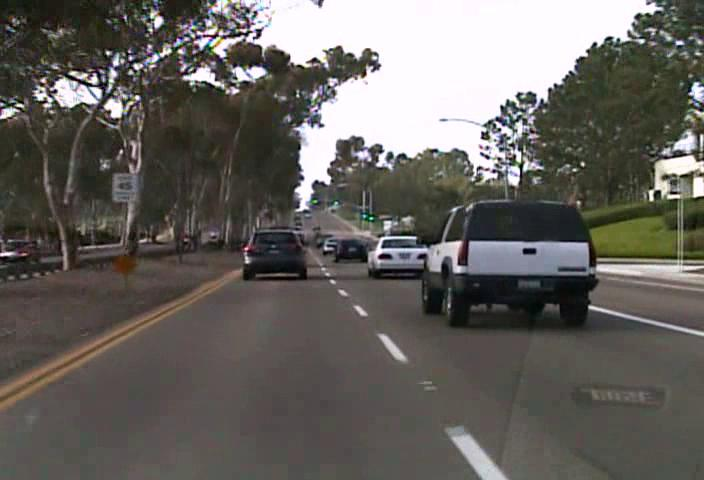speedLimit45: (110, 170, 138, 204)
